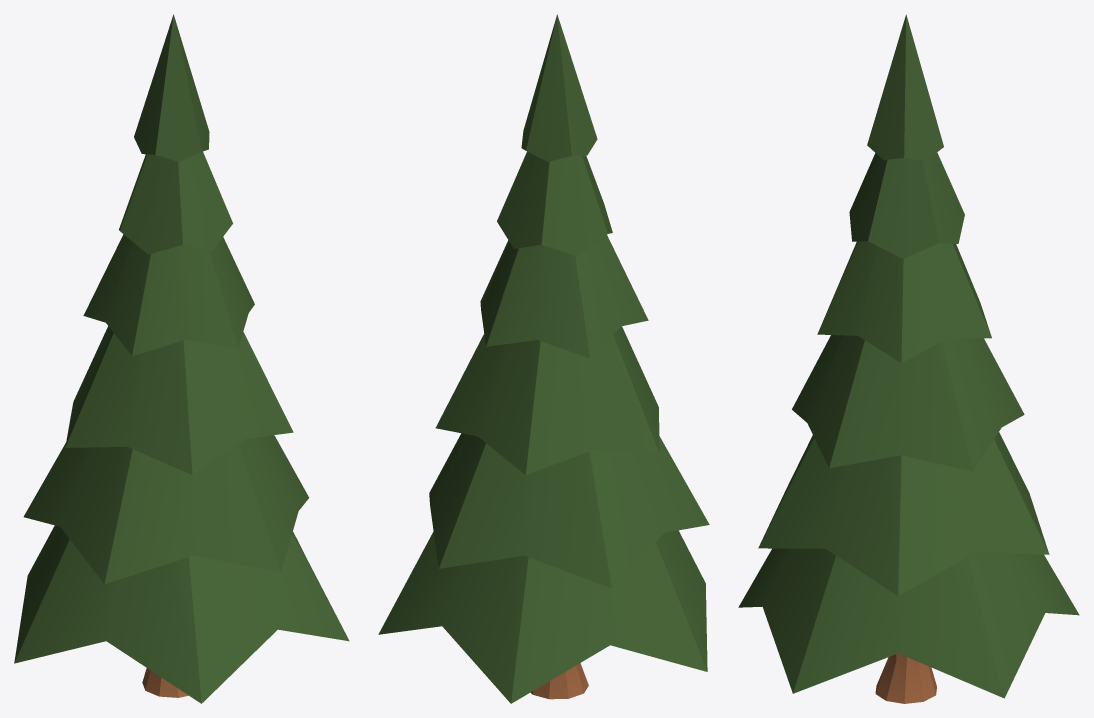
The model's file is Tree8.glb.
3 renders of one model, left to right at view 1: azimuth 30°, elevation 25°; view 2: azimuth 150°, elevation 25°; view 3: azimuth 270°, elevation 25°, orthographic.
Parts seen in each view (by area): view 1: Pinetree Leaves.007; view 2: Pinetree Leaves.007; view 3: Pinetree Leaves.007.
Boxes of the visible parts, box(x1,y1,x2,y2) form: Pinetree Leaves.007: box(14, 14, 349, 703); Pinetree Leaves.007: box(378, 14, 709, 703); Pinetree Leaves.007: box(738, 14, 1079, 703).
Bounding box in the file's own units: 2.5 × 5.59 × 2.56.
